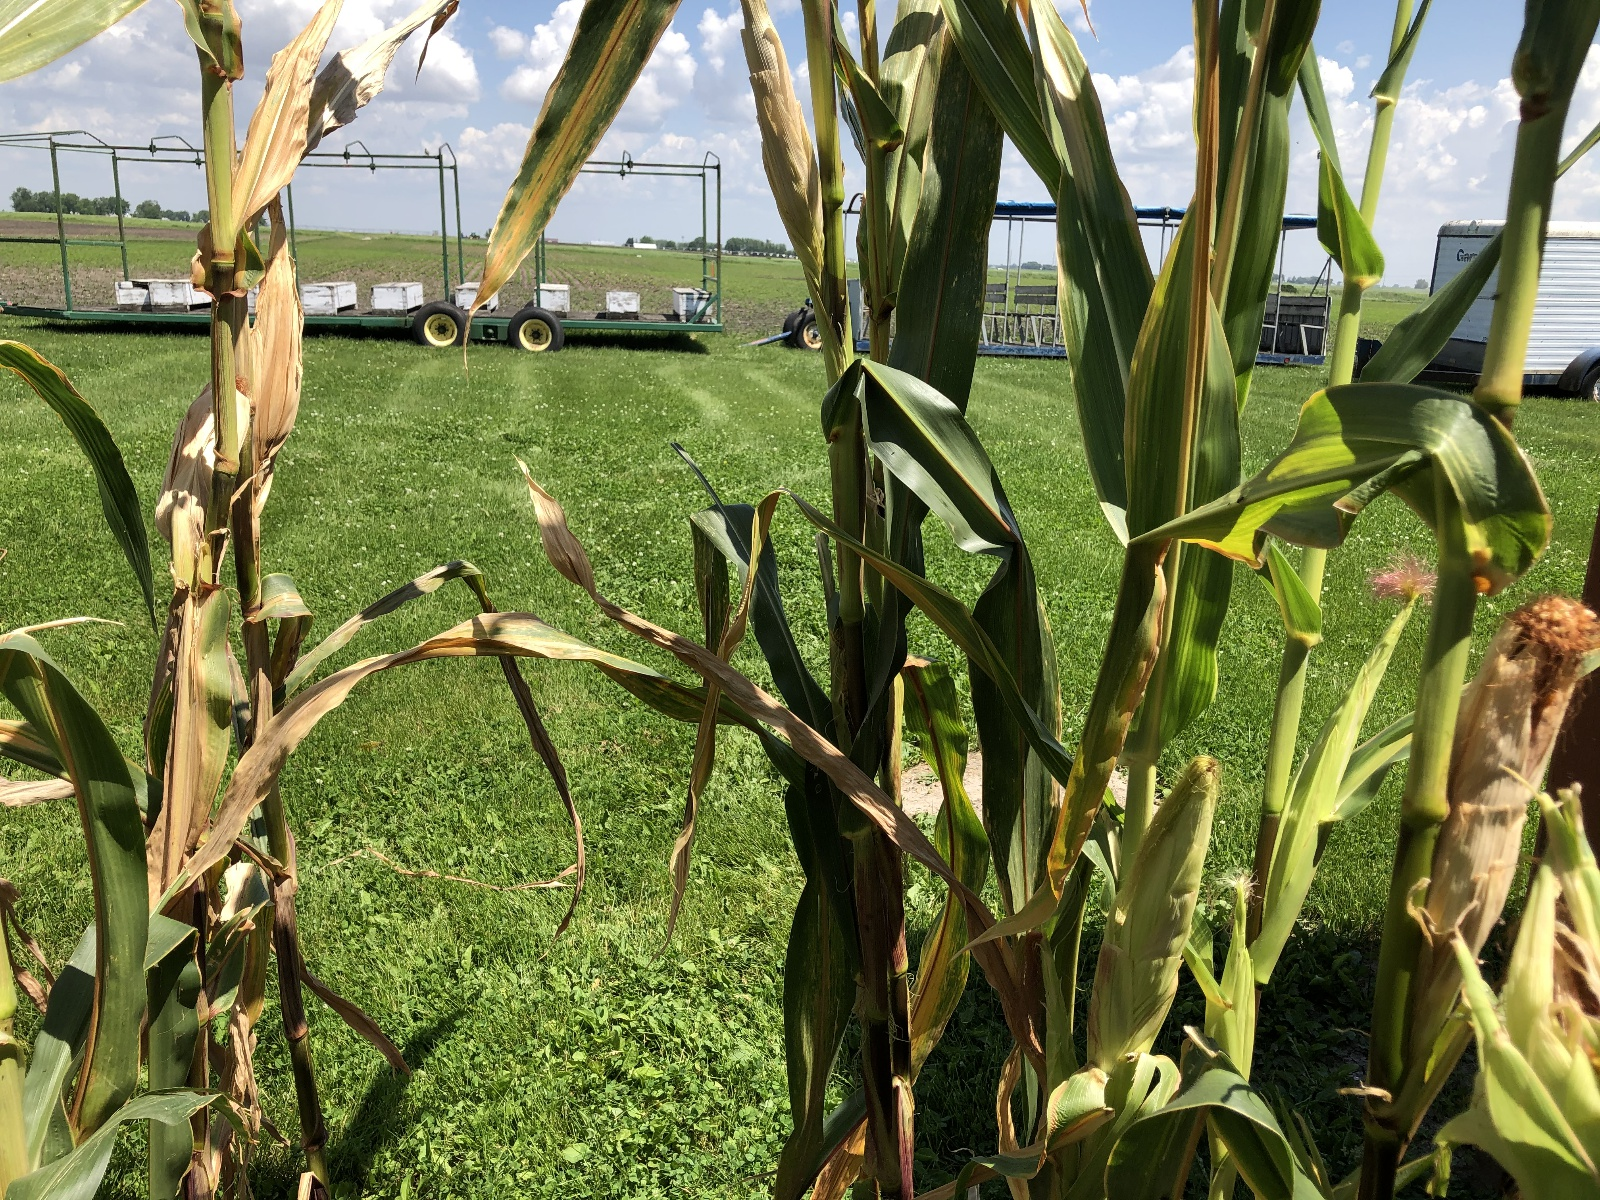ear: (1411, 581, 1596, 997), (1085, 747, 1226, 1066), (742, 14, 829, 271), (241, 203, 316, 435), (155, 381, 249, 534)
